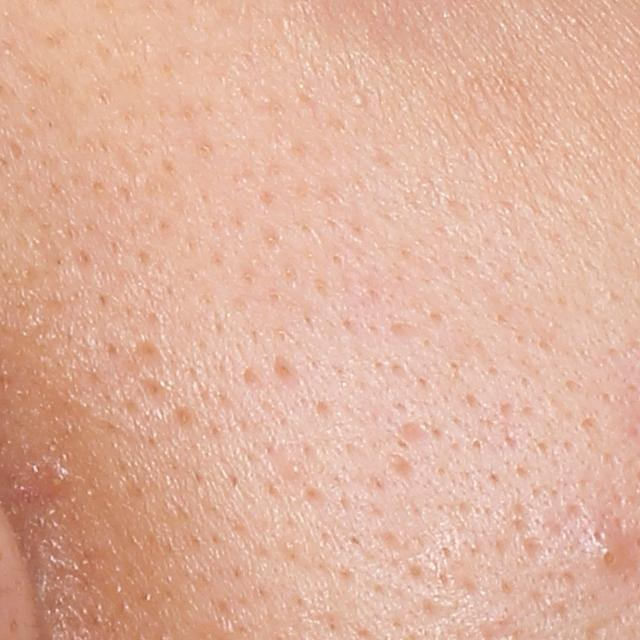atrophic_scar: (388, 453, 419, 482), (400, 419, 433, 445), (274, 353, 299, 386)
comedo: (590, 535, 636, 582), (350, 91, 367, 110)
